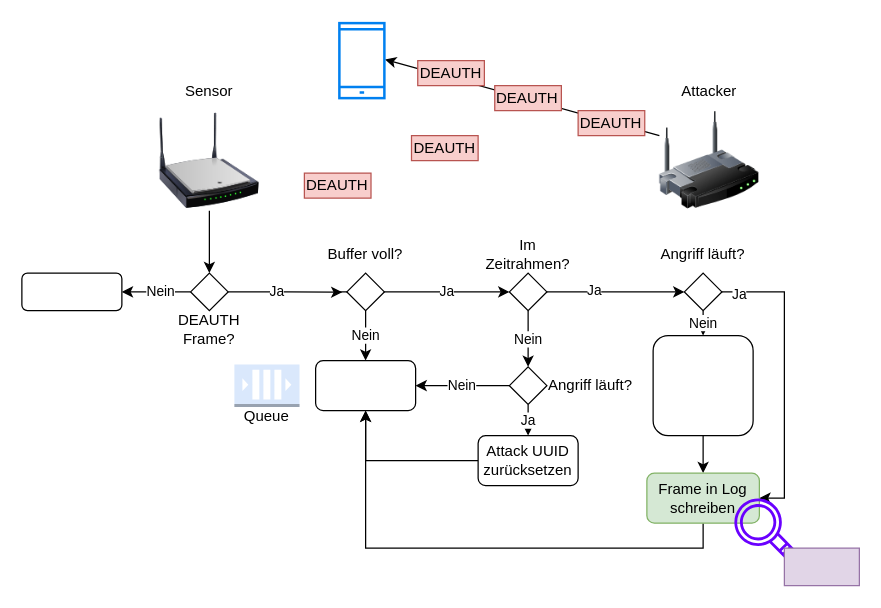
Some shapes in this 881 by 608 pixel diagram are drawn without their labels. Here are the shapes that lost their labels. From the top down, the centre of each, then its label:
At [71,291]: "Verwerfen".
At [365,385]: "Dequeue + Enqueue".
At [702,385]: "Attack UUID für alle Frames setzen, die keine haben".
At [821,566]: "Filebeat".
